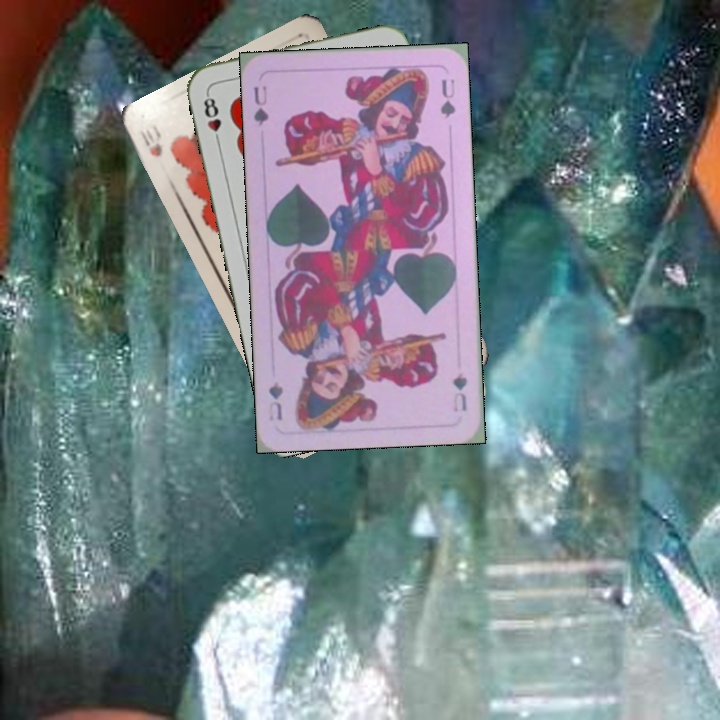GU: (249, 82, 271, 129), (448, 368, 470, 415)
H10: (135, 119, 165, 160)
H8: (199, 89, 224, 148)
